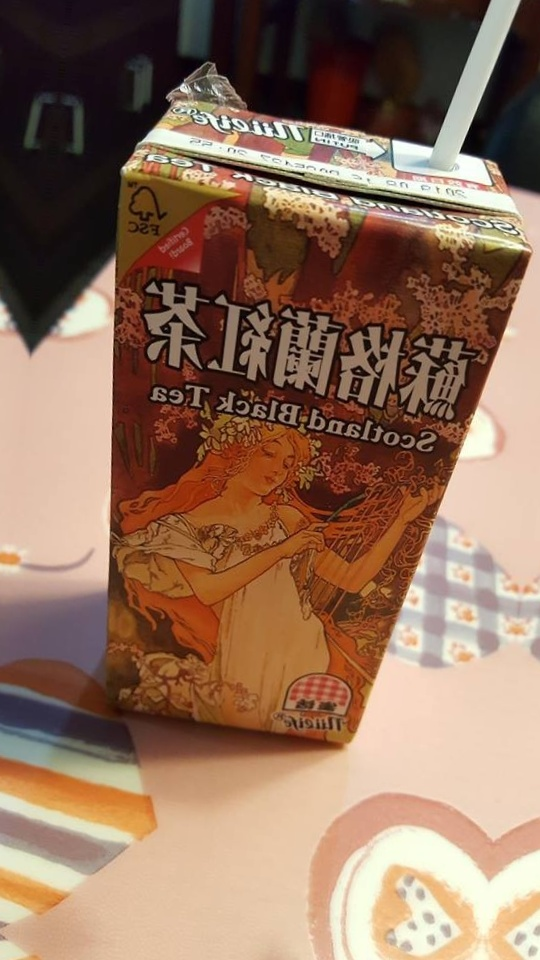鋁箔包: (67, 84, 540, 764), (529, 135, 540, 815)
